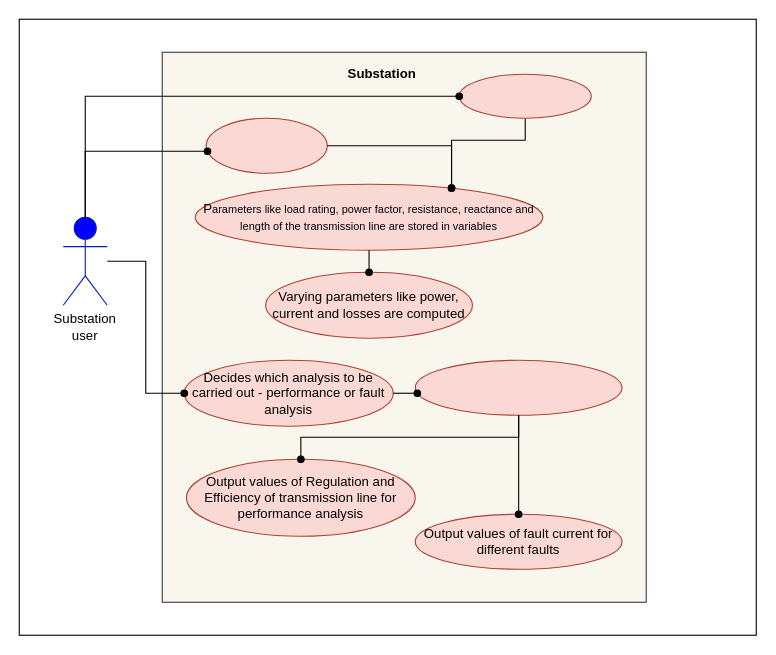
Some shapes in this 776 by 655 pixel diagram are drawn without their labels. The centre of each missing label's shape, as x and y in pixels:
"Compute values according to the decision of the user" goes at pixel 518 387.
"Modify data in the file" goes at pixel 266 145.
"R ead data from the file" goes at pixel 524 95.
